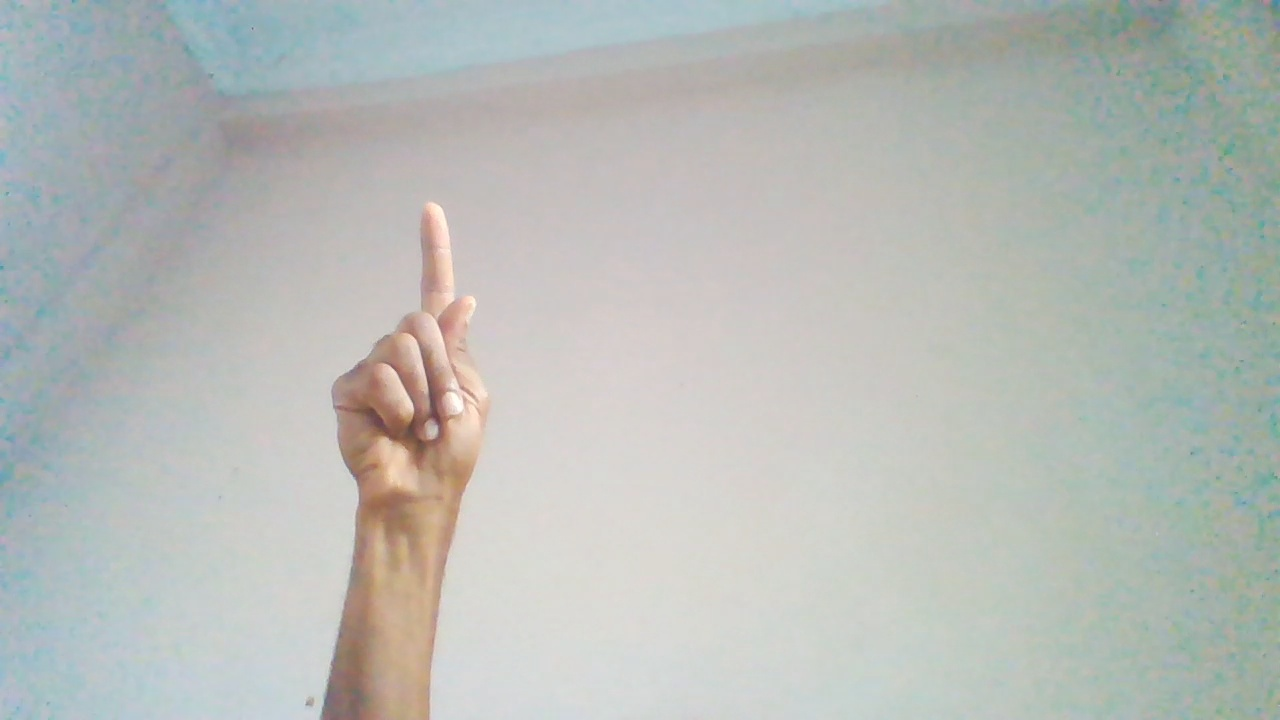ne: (335, 201, 495, 610)
